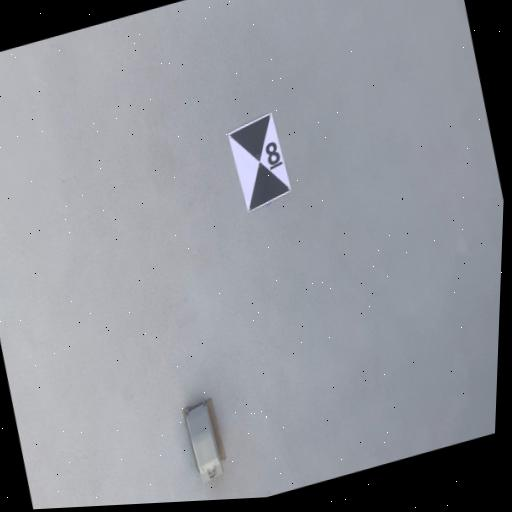target8: (228, 112, 291, 212)
